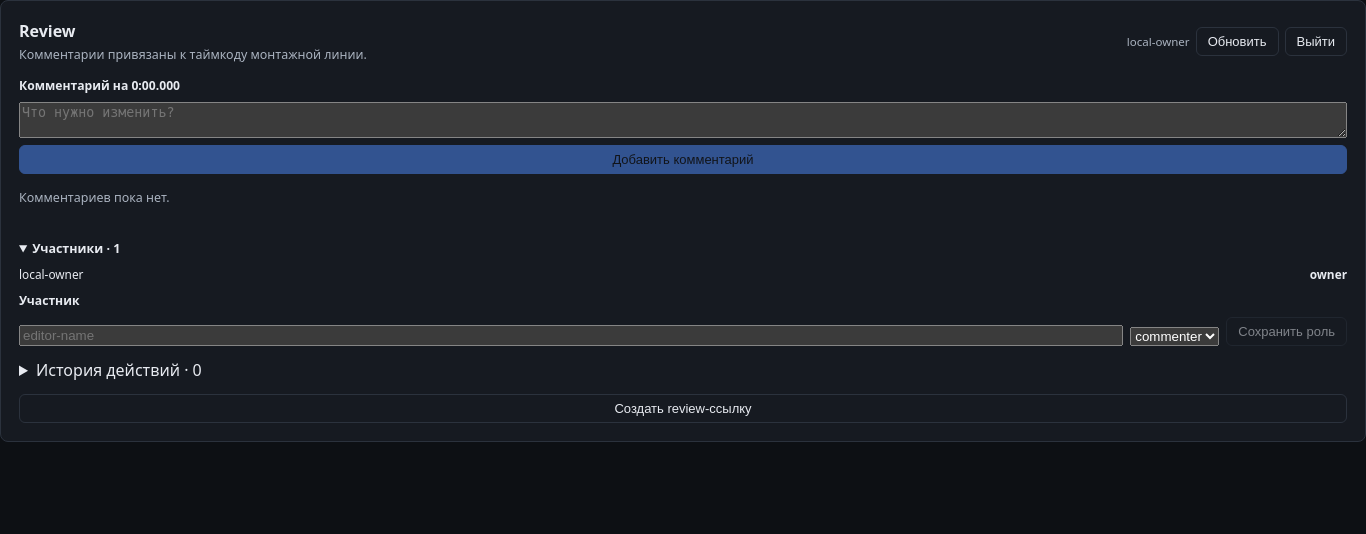
Test: CompositionReviewPanel › lets the server-known owner assign a durable member role
The image size is (1366, 534).
In the field with id "composition-review-member": (571, 336) [19, 325, 1123, 346], type "editor-1"
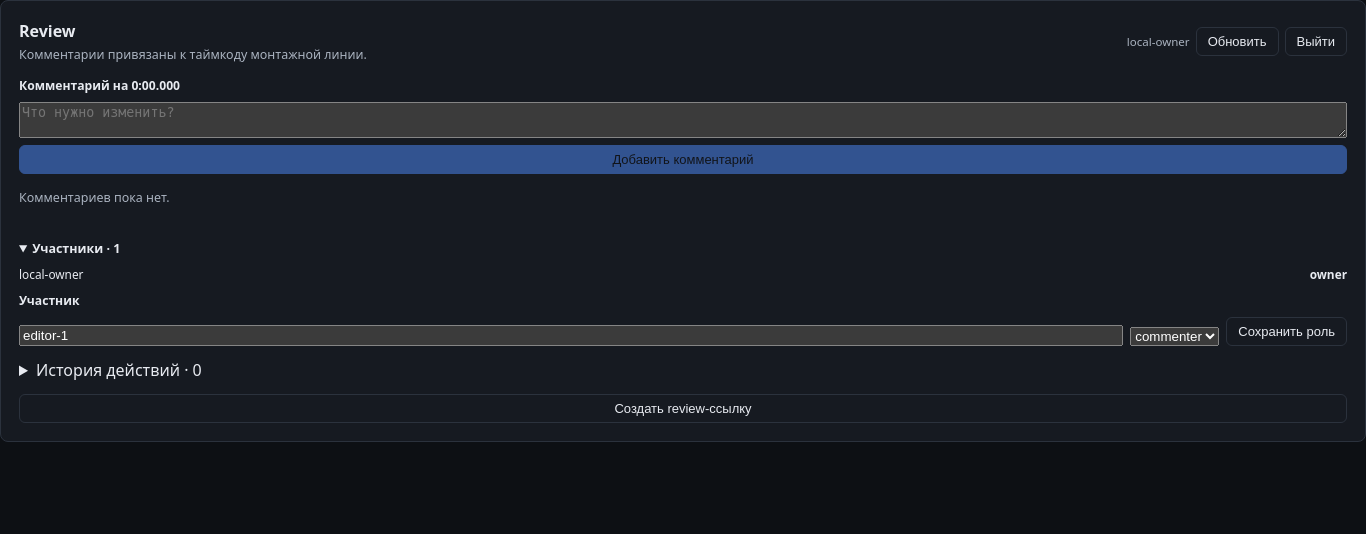
Click the button "Сохранить роль": (1287, 332) [1226, 317, 1347, 346]
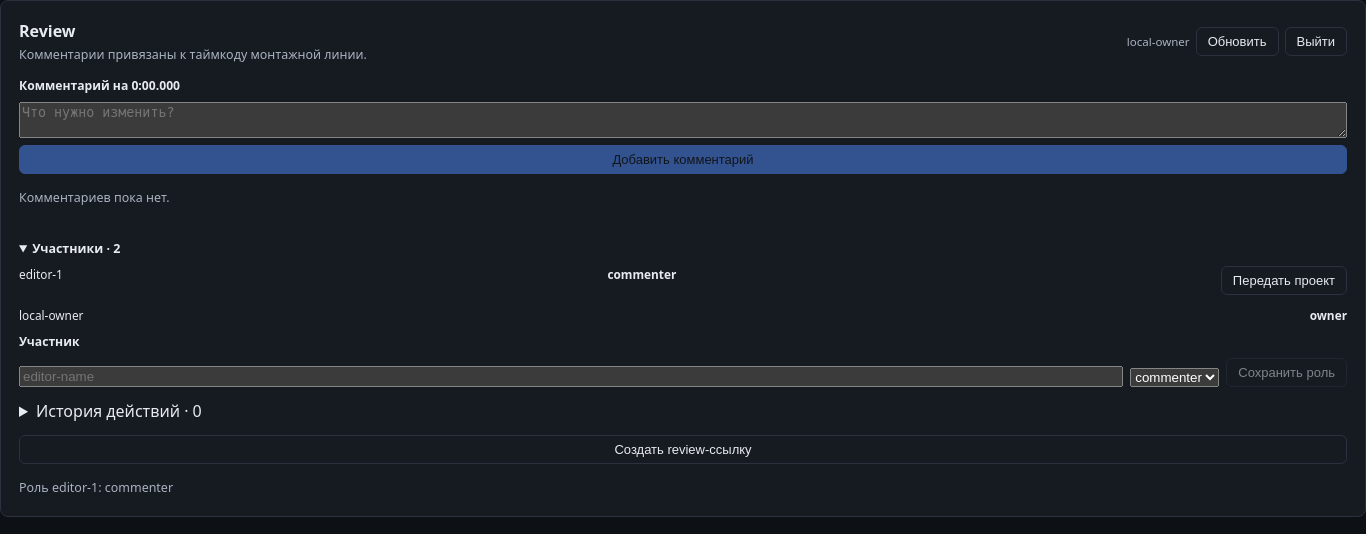
Expected: the text "editor-1" is shown, [19, 266, 63, 282]
Click the button "Передать проект": (1284, 281) [1221, 266, 1347, 295]
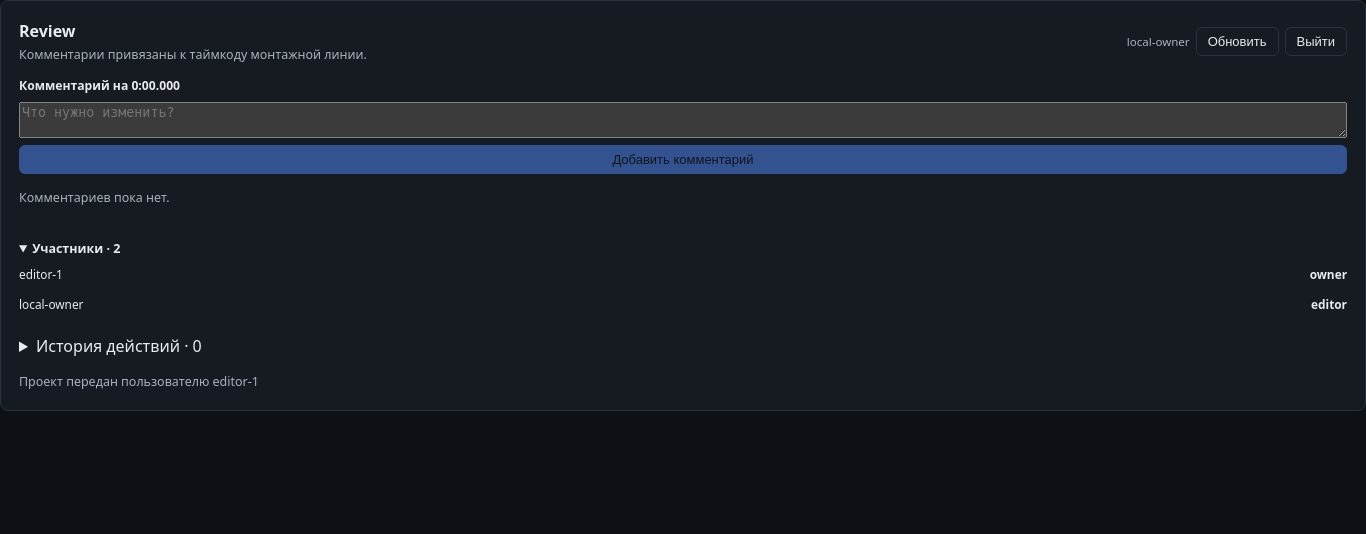
Expected: the text "Проект передан пользователю editor-1" is shown, [19, 373, 259, 390]
